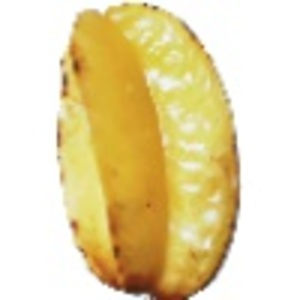carambola: (56, 1, 243, 300)
